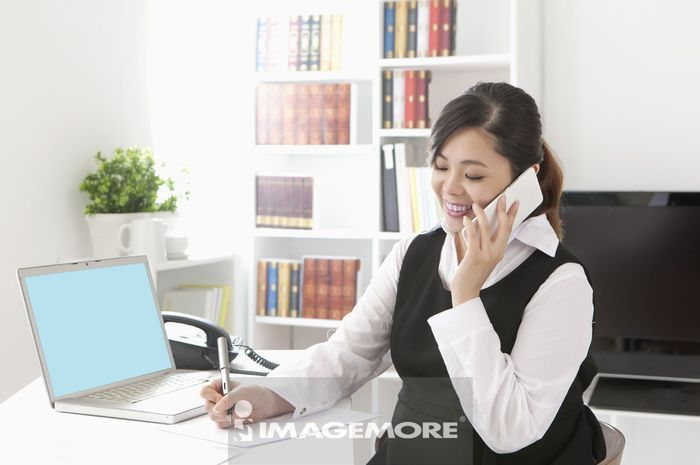phone: (463, 167, 543, 257)
talk: (431, 150, 543, 305)
